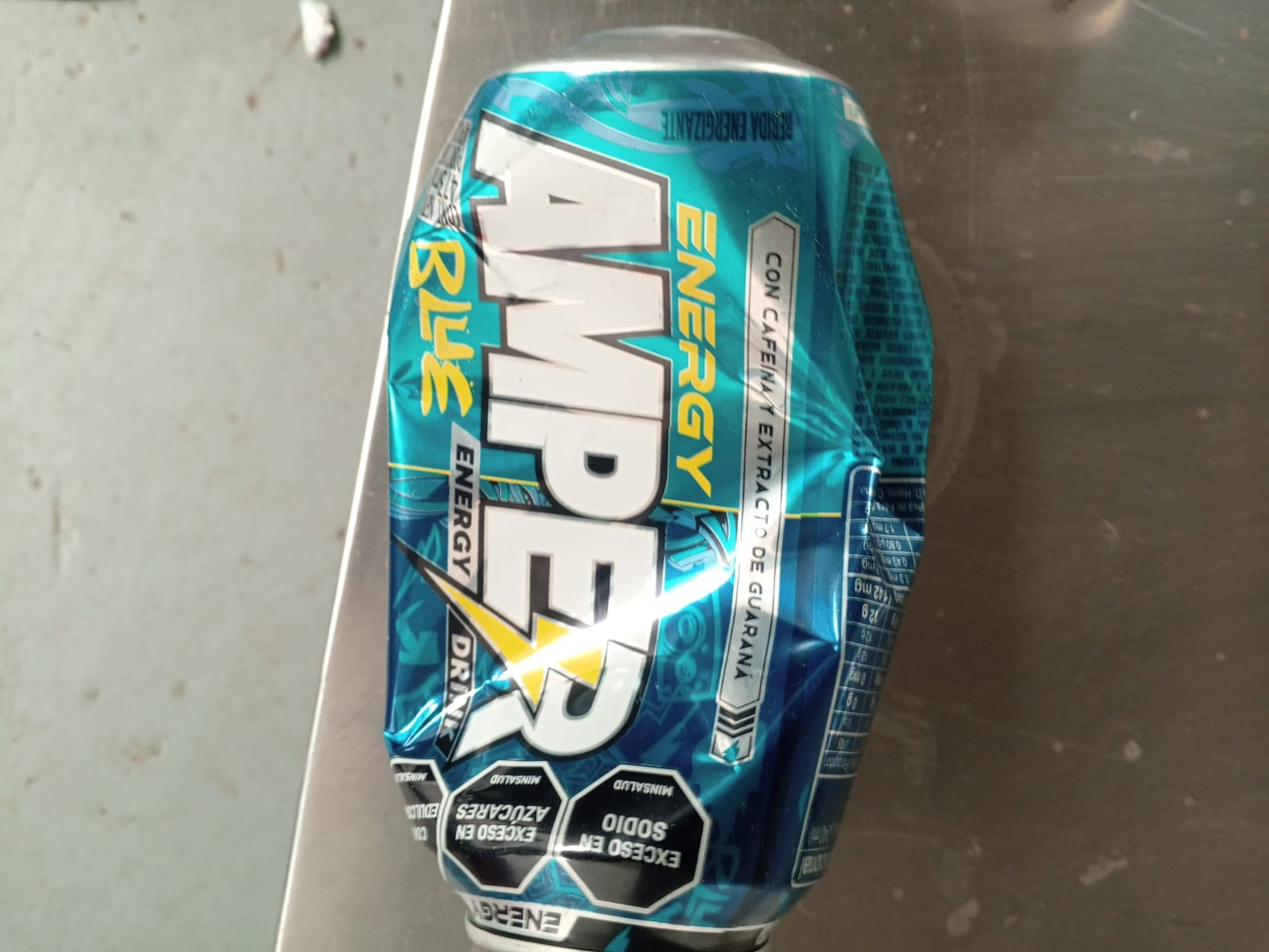Metal: (384, 27, 932, 952)
